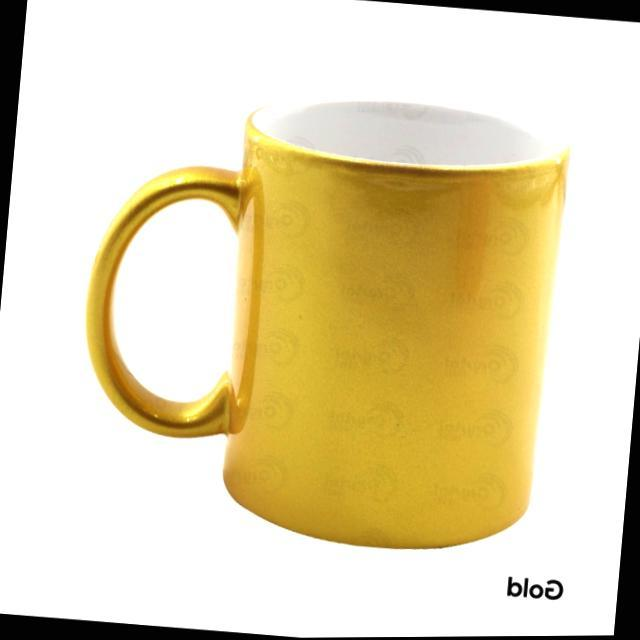cup: (63, 73, 576, 567)
